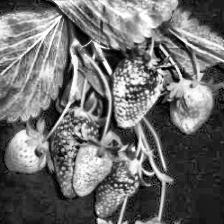Powdery Mildew Fruit: (49, 112, 99, 199), (111, 52, 166, 128), (94, 151, 141, 219), (71, 142, 112, 197)
